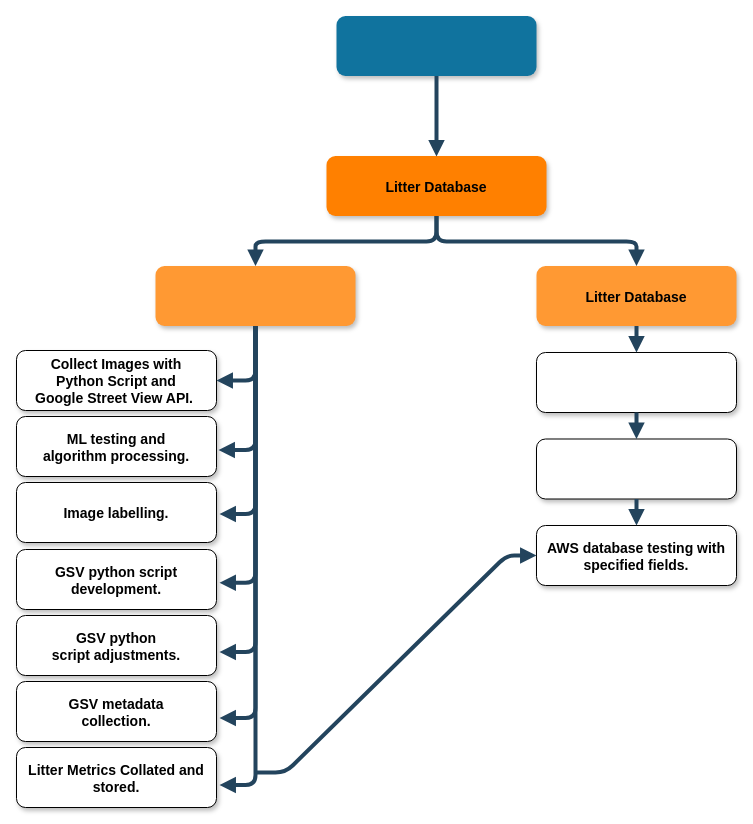
Some shapes in this 753 by 824 pixel diagram are drawn without their labels. The centre of each missing label's shape, as x and y in pixels:
"Database development." goes at (x=637, y=470).
"Image/Data collection" goes at (x=256, y=297).
"Team meeting with UI team." goes at (x=637, y=384).
"WBS" goes at (x=437, y=47).
